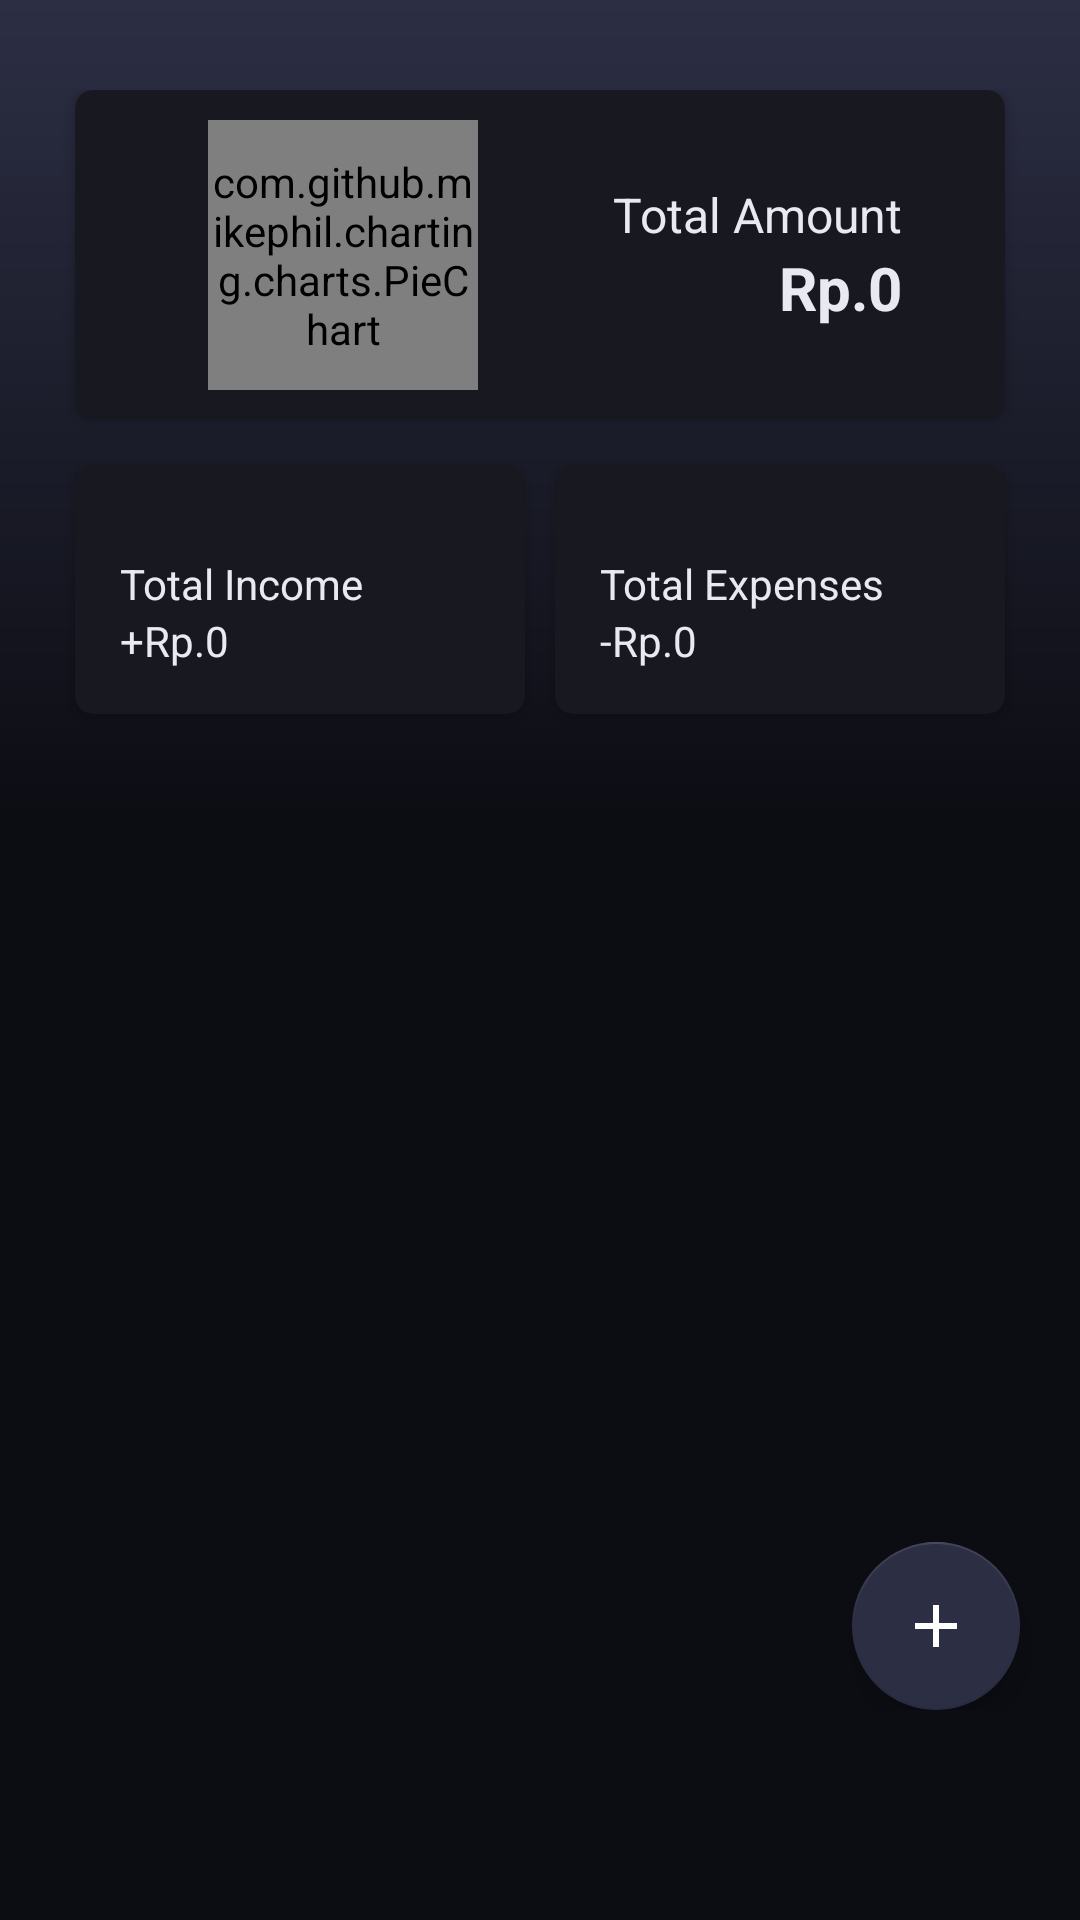

Icons on this 1080px x 1920px Android screen, each with the point to tap as (x=x, y=y):
add: (x=936, y=1626)
